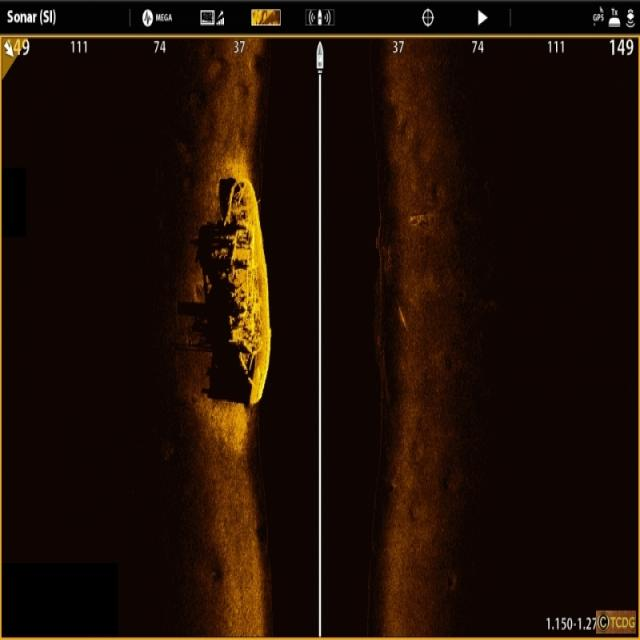ship: (216, 172, 274, 410)
